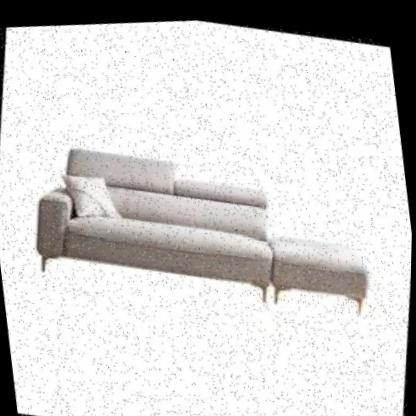Sofa: (0, 64, 415, 385)
